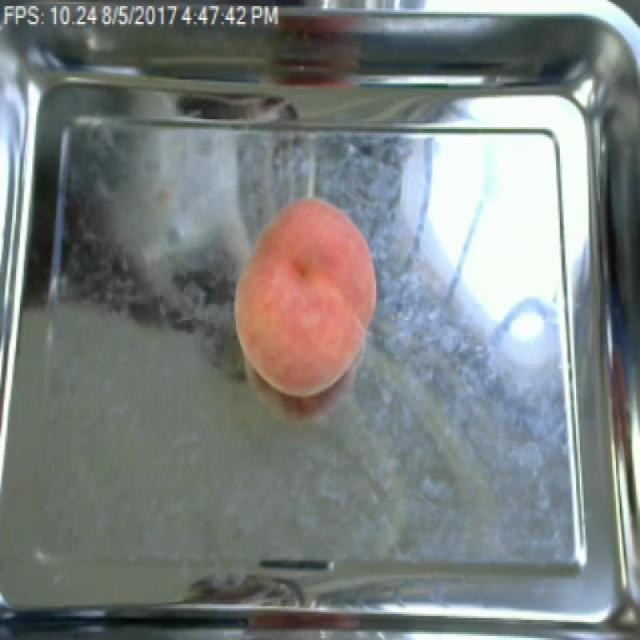Fruit: (226, 187, 386, 403)
